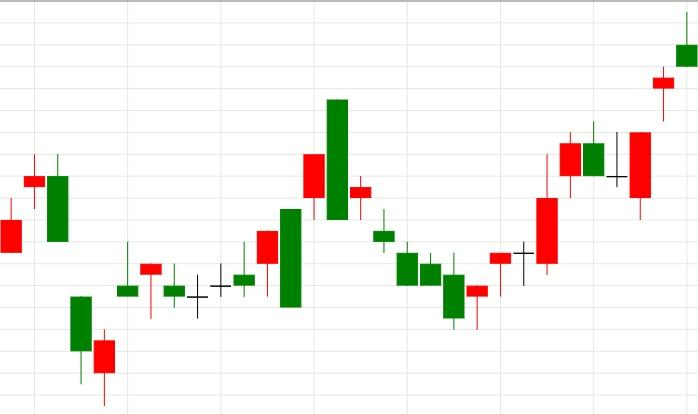bearish_engulfing_fall: (187, 99, 349, 319), (187, 208, 302, 319)
